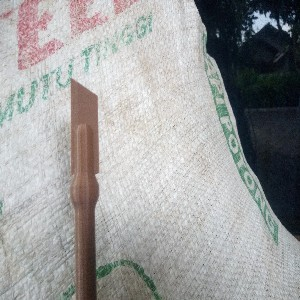cutter: (68, 76, 100, 300)
